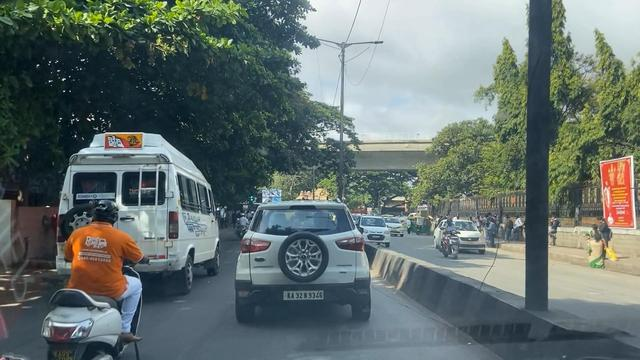HMV: (75, 136, 220, 284)
LMV: (233, 183, 355, 315), (62, 214, 152, 359)
